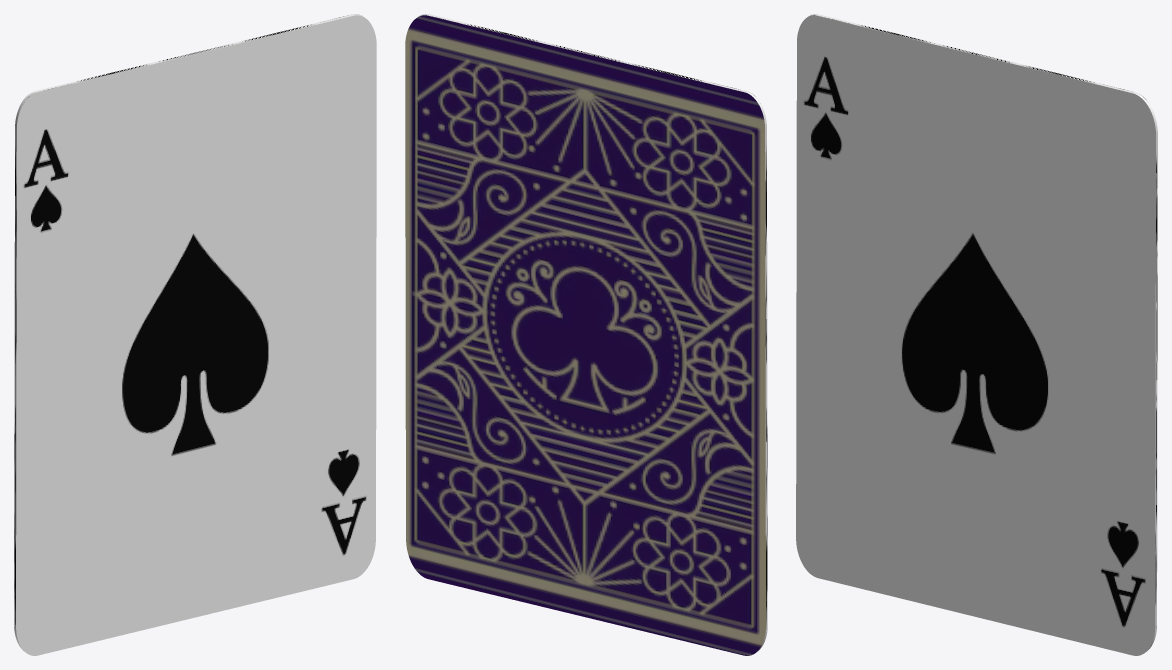
Rendered from ASpicas.glb.
The picture shows the model from 3 angles, left to right: view 1: azimuth 30°, elevation 25°; view 2: azimuth 150°, elevation 25°; view 3: azimuth 330°, elevation 25°; orthographic projection.
Parts seen in each view (by area): view 1: Cubo.007; view 2: Cubo.007; view 3: Cubo.007.
Boxes of the visible parts, left/top/right/bottom form: Cubo.007: left=14, top=14, right=376, bottom=655; Cubo.007: left=405, top=14, right=767, bottom=655; Cubo.007: left=796, top=14, right=1157, bottom=655.
Size of the model in its own units: 7.36 by 11 by 0.065.
3 materials, 3 textured.
